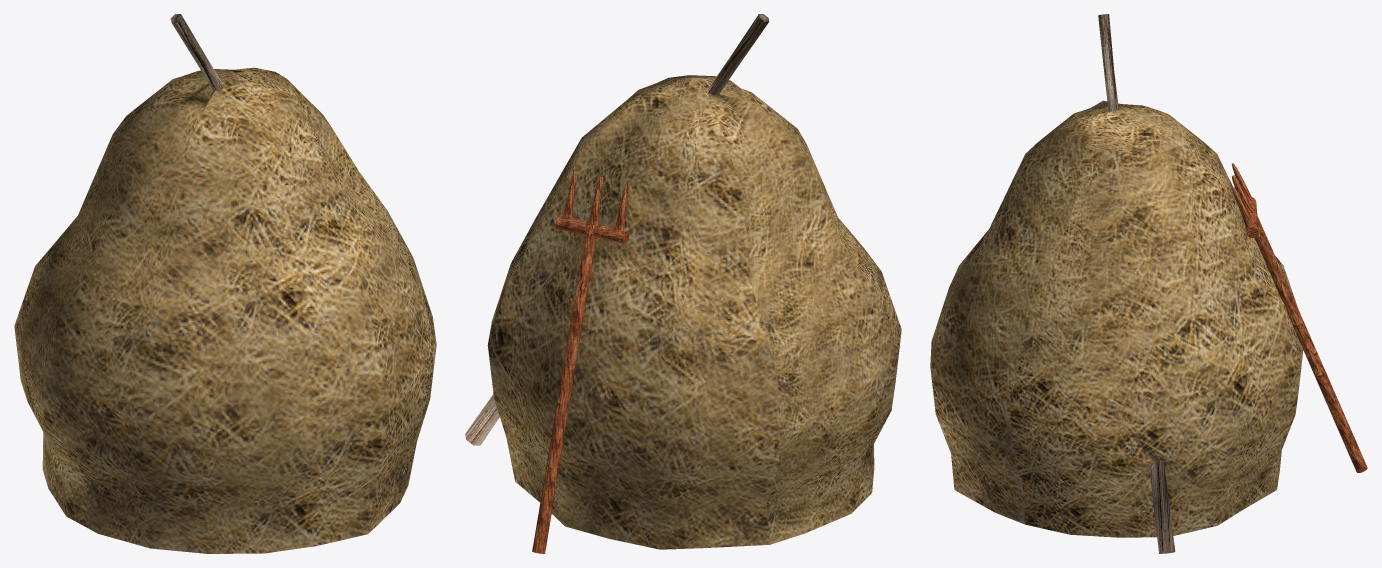
Rendered from HayStack_2.fbx.
3 views of the same model, side by side, from view 1: azimuth 30°, elevation 25°; view 2: azimuth 150°, elevation 25°; view 3: azimuth 270°, elevation 25° (orthographic). The views are drawn at different scales.
Parts seen in each view (by area): view 1: hayStack; view 2: hayStack; view 3: hayStack.
Boxes of the visible parts, <box> form: hayStack: <box>14,14,436,553</box>; hayStack: <box>465,14,901,553</box>; hayStack: <box>930,14,1367,553</box>.
Size of the model in its own units: 238 by 277 by 255.
Materials: 1 (1 with a texture image).
